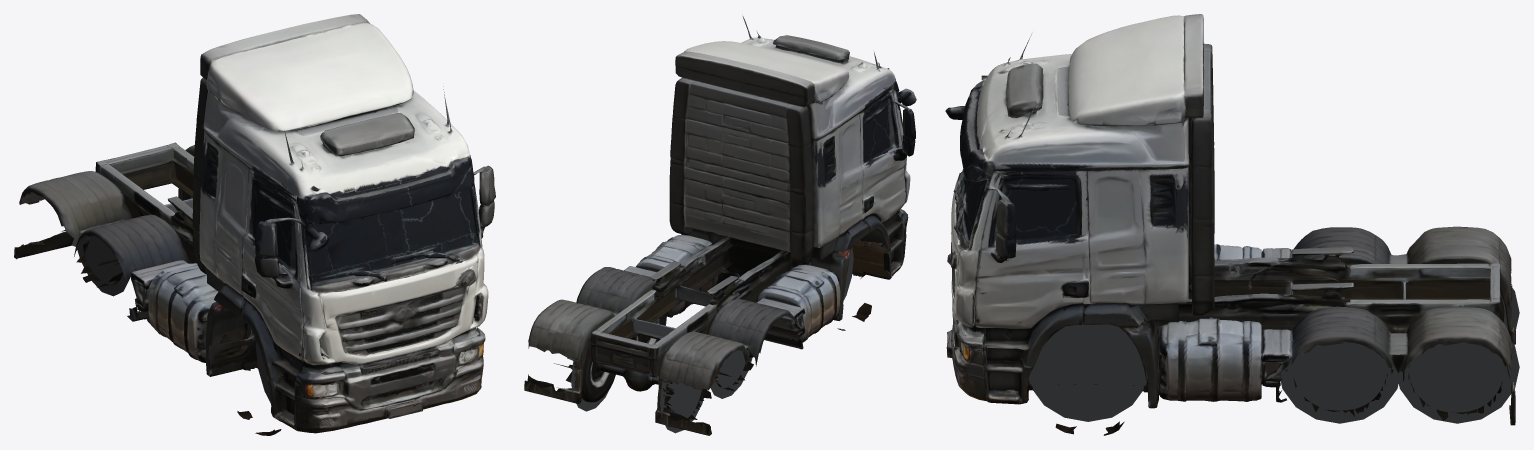
Rendered from cav_cinza.glb.
The picture shows the model from 3 angles, left to right: view 1: azimuth 30°, elevation 25°; view 2: azimuth 150°, elevation 25°; view 3: azimuth 270°, elevation 25°; orthographic projection. The views are drawn at different scales.
Visible parts, largest first — view 1: carroceria, chassi; view 2: carroceria, chassi; view 3: carroceria, chassi.
Boxes of the visible parts, <box> form: carroceria: <box>14,14,495,435</box>; chassi: <box>77,236,270,403</box>; carroceria: <box>524,16,916,435</box>; chassi: <box>571,247,853,433</box>; carroceria: <box>945,14,1515,435</box>; chassi: <box>1028,287,1519,423</box>.
Bounding box in the file's own units: 2.68 × 3.64 × 5.44.
2 materials, 1 textured.
